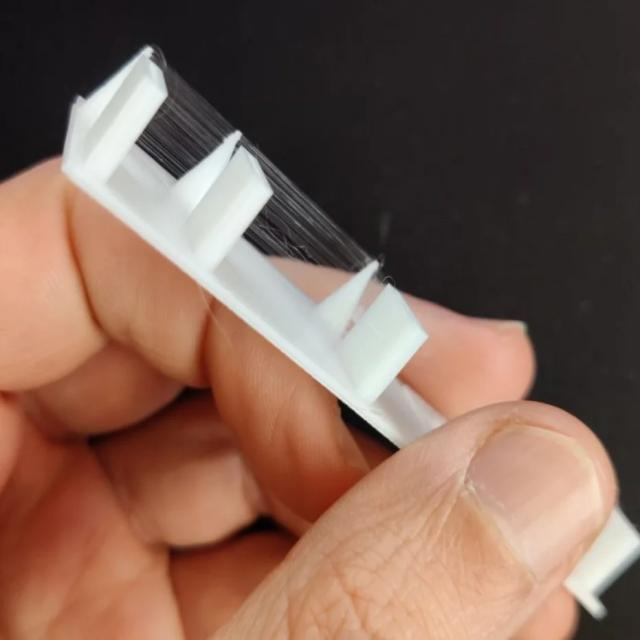Stringing: (248, 175, 355, 296), (139, 80, 219, 184)
